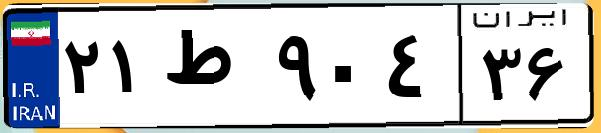0: (330, 28, 385, 110)
1: (110, 28, 158, 98)
2: (57, 26, 110, 100)
3: (475, 38, 525, 113)
4: (385, 28, 445, 110)
6: (525, 38, 570, 115)
9: (270, 28, 330, 110)
ط: (158, 20, 270, 120)
